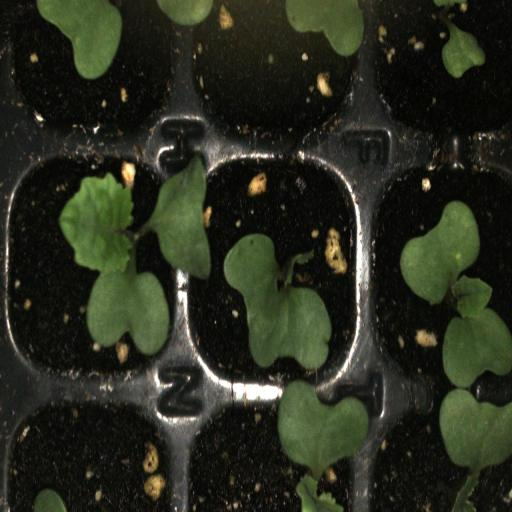seedling: (2, 157, 189, 396), (184, 152, 368, 392), (367, 151, 512, 389)
